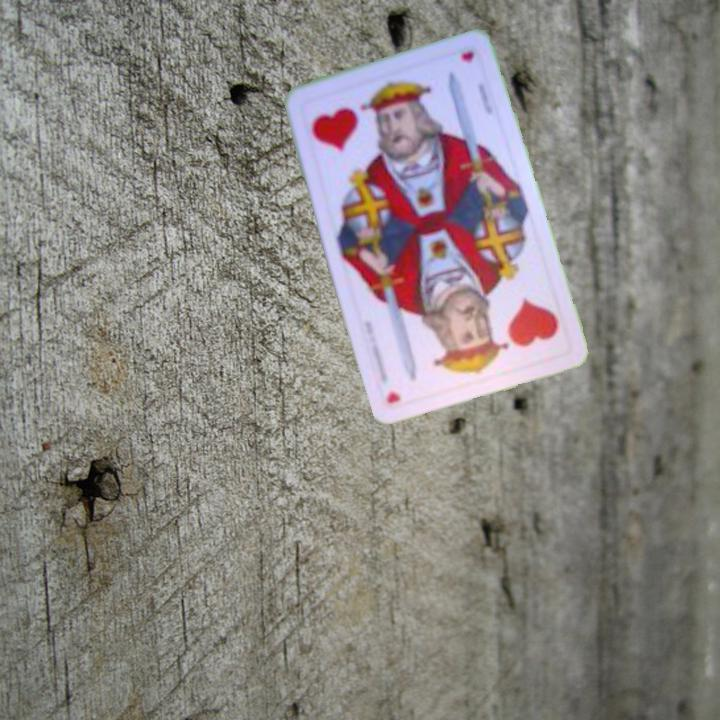h_k.png: (294, 73, 413, 184), (453, 271, 573, 381)
